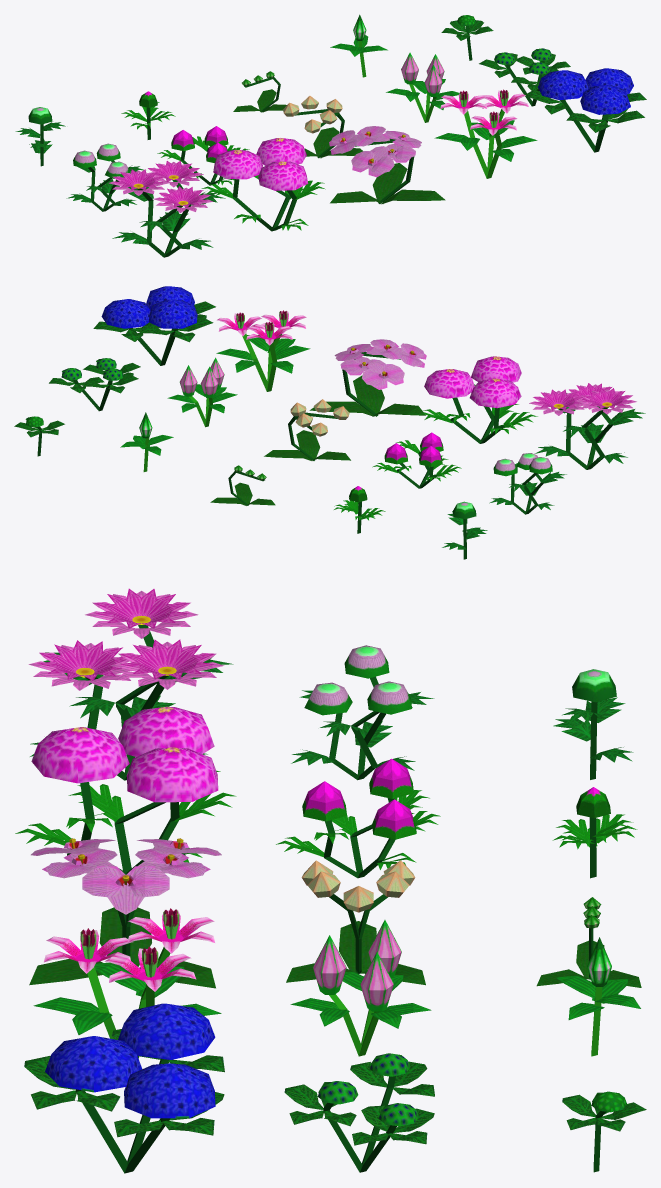
The model's file is FlowersLvl3Decorative.fbx.
3 views of the same model, one above another, from view 1: azimuth 30°, elevation 25°; view 2: azimuth 150°, elevation 25°; view 3: azimuth 270°, elevation 25° (orthographic). The views are drawn at different scales.
Parts seen in each view (by area): view 1: Peony3, Hydrangea3, Orchid3, Chrysanthemum3, Lily3, Chrysanthemum2, Orchid2, Lily2, Hydrangea2, Peony2, Chrysanthemum1, Orchid1 (+3 smaller); view 2: Peony3, Hydrangea3, Orchid3, Chrysanthemum3, Lily3, Orchid2, Peony2, Chrysanthemum2, Lily2, Hydrangea2, Orchid1, Chrysanthemum1 (+3 smaller); view 3: Hydrangea3, Peony3, Chrysanthemum3, Orchid3, Lily3, Hydrangea2, Peony2, Chrysanthemum2, Lily2, Orchid2, Chrysanthemum1, Lily1 (+3 smaller).
Boxes of the visible parts, x1=… form: Peony3: x1=201, y1=138, x2=325, y2=231; Hydrangea3: x1=525, y1=68, x2=646, y2=152; Orchid3: x1=329, y1=126, x2=445, y2=204; Chrysanthemum3: x1=108, y1=160, x2=225, y2=257; Lily3: x1=434, y1=89, x2=537, y2=178; Chrysanthemum2: x1=66, y1=143, x2=143, y2=211; Orchid2: x1=283, y1=96, x2=362, y2=158; Lily2: x1=386, y1=52, x2=459, y2=122; Hydrangea2: x1=479, y1=48, x2=570, y2=106; Peony2: x1=157, y1=126, x2=249, y2=185; Chrysanthemum1: x1=15, y1=107, x2=65, y2=166; Orchid1: x1=233, y1=71, x2=286, y2=112; Peony3: x1=417, y1=356, x2=537, y2=443; Hydrangea3: x1=93, y1=286, x2=215, y2=365; Orchid3: x1=309, y1=339, x2=426, y2=416; Chrysanthemum3: x1=529, y1=383, x2=645, y2=469; Lily3: x1=216, y1=310, x2=310, y2=391; Orchid2: x1=264, y1=399, x2=350, y2=460; Peony2: x1=372, y1=432, x2=461, y2=488; Chrysanthemum2: x1=489, y1=453, x2=566, y2=514; Lily2: x1=167, y1=357, x2=237, y2=427; Hydrangea2: x1=49, y1=358, x2=140, y2=411; Orchid1: x1=210, y1=465, x2=275, y2=505; Chrysanthemum1: x1=442, y1=501, x2=487, y2=559; Hydrangea3: x1=24, y1=1003, x2=224, y2=1173; Peony3: x1=15, y1=706, x2=236, y2=874; Chrysanthemum3: x1=28, y1=588, x2=233, y2=780; Orchid3: x1=29, y1=838, x2=221, y2=988; Lily3: x1=33, y1=908, x2=221, y2=1058; Hydrangea2: x1=284, y1=1053, x2=434, y2=1172; Peony2: x1=276, y1=758, x2=440, y2=878; Chrysanthemum2: x1=291, y1=645, x2=434, y2=780; Lily2: x1=290, y1=920, x2=431, y2=1056; Orchid2: x1=286, y1=860, x2=425, y2=985; Chrysanthemum1: x1=553, y1=669, x2=633, y2=779; Lily1: x1=556, y1=937, x2=640, y2=1056.
Size of the model in its own units: 491 by 71.76 by 272.
